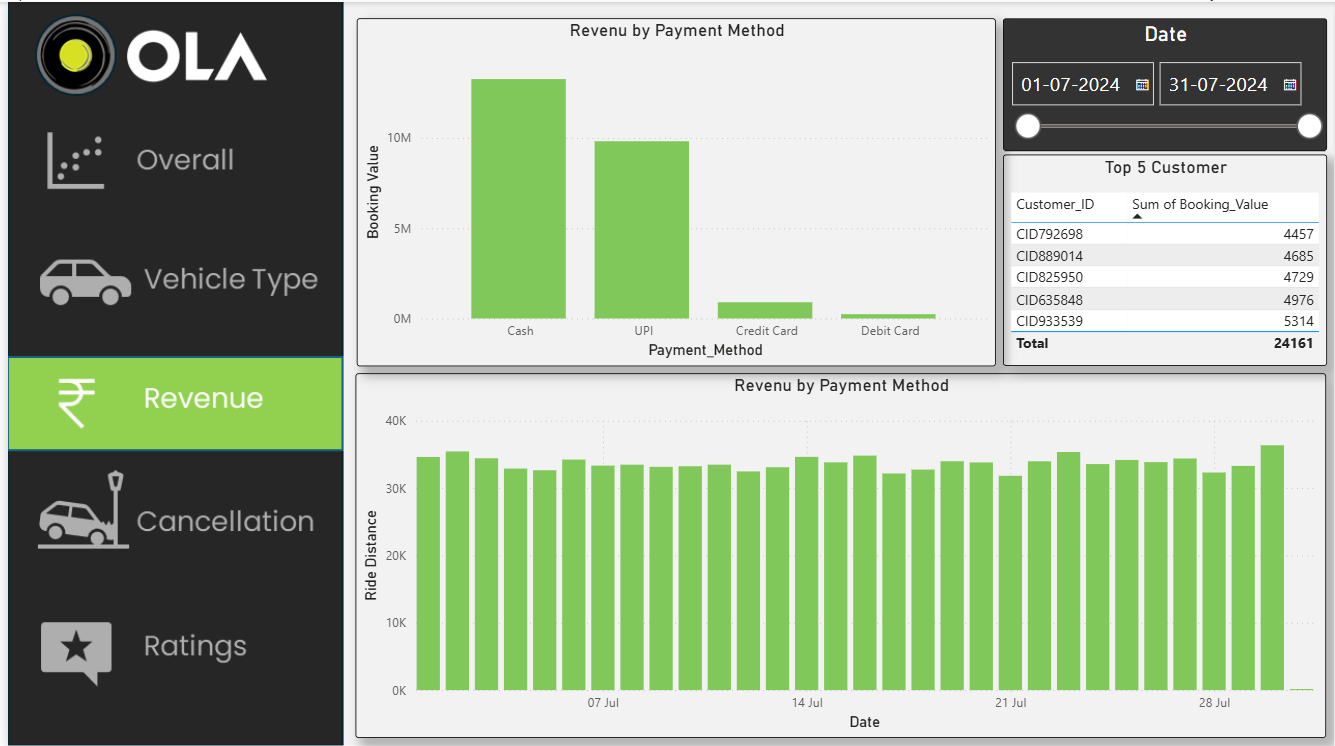

This screenshot's page, from the dashboard's own definition file:
{"tool":"powerbi","page":{"name":"Revenue","canvas":[1280,720],"ordinal":2},"visuals":[{"type":"actionButton","box":[0,224,322,91],"z":0},{"type":"actionButton","box":[0,448,322,91],"z":1000},{"type":"actionButton","box":[0,576,322,91],"z":2000},{"type":"actionButton","box":[0,112,322,91],"z":3000},{"type":"columnChart","title":"Revenu by Payment Method","fields":{"Category":["Bookings.Payment_Method"],"Y":["Sum(Bookings.Booking_Value)"]},"box":[336,16,617,336],"z":3001},{"type":"columnChart","title":"Revenu by Payment Method","fields":{"Category":["Bookings.Date"],"Y":["Sum(Bookings.Ride_Distance)"]},"box":[335,358,937,352],"z":3002},{"type":"slicer","title":"Date","fields":{"Values":["Bookings.Date"]},"box":[960,16,313,128],"z":3003},{"type":"tableEx","title":"Top 5 Customer","fields":{"Values":["Bookings.Customer_ID","Sum(Bookings.Booking_Value)"]},"box":[960,147,313,204],"z":3004}]}

Visuals, with their boxes in screenshot pixels (x1, y1, x2, y2), scaled from the page's 1280x720 canvas onto the 1335x746 screenshot:
actionButton: [x1=0, y1=232, x2=336, y2=326]
actionButton: [x1=0, y1=464, x2=336, y2=558]
actionButton: [x1=0, y1=597, x2=336, y2=691]
actionButton: [x1=0, y1=116, x2=336, y2=210]
"Revenu by Payment Method" columnChart: [x1=350, y1=17, x2=994, y2=365]
"Revenu by Payment Method" columnChart: [x1=349, y1=371, x2=1327, y2=736]
"Date" slicer: [x1=1001, y1=17, x2=1328, y2=149]
"Top 5 Customer" tableEx: [x1=1001, y1=152, x2=1328, y2=364]
